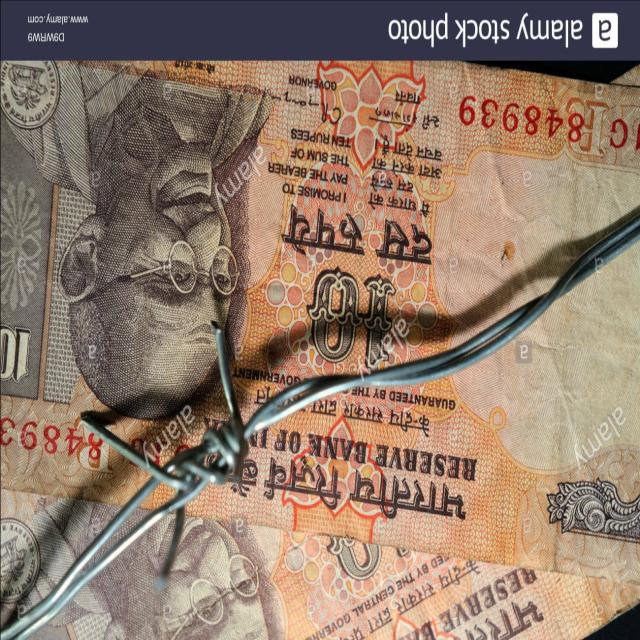10IndianRupees: (0, 58, 640, 549)
